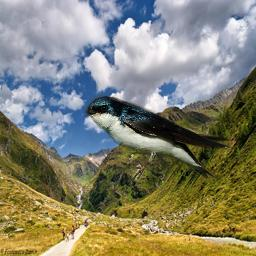Swallow: (84, 95, 237, 185)
